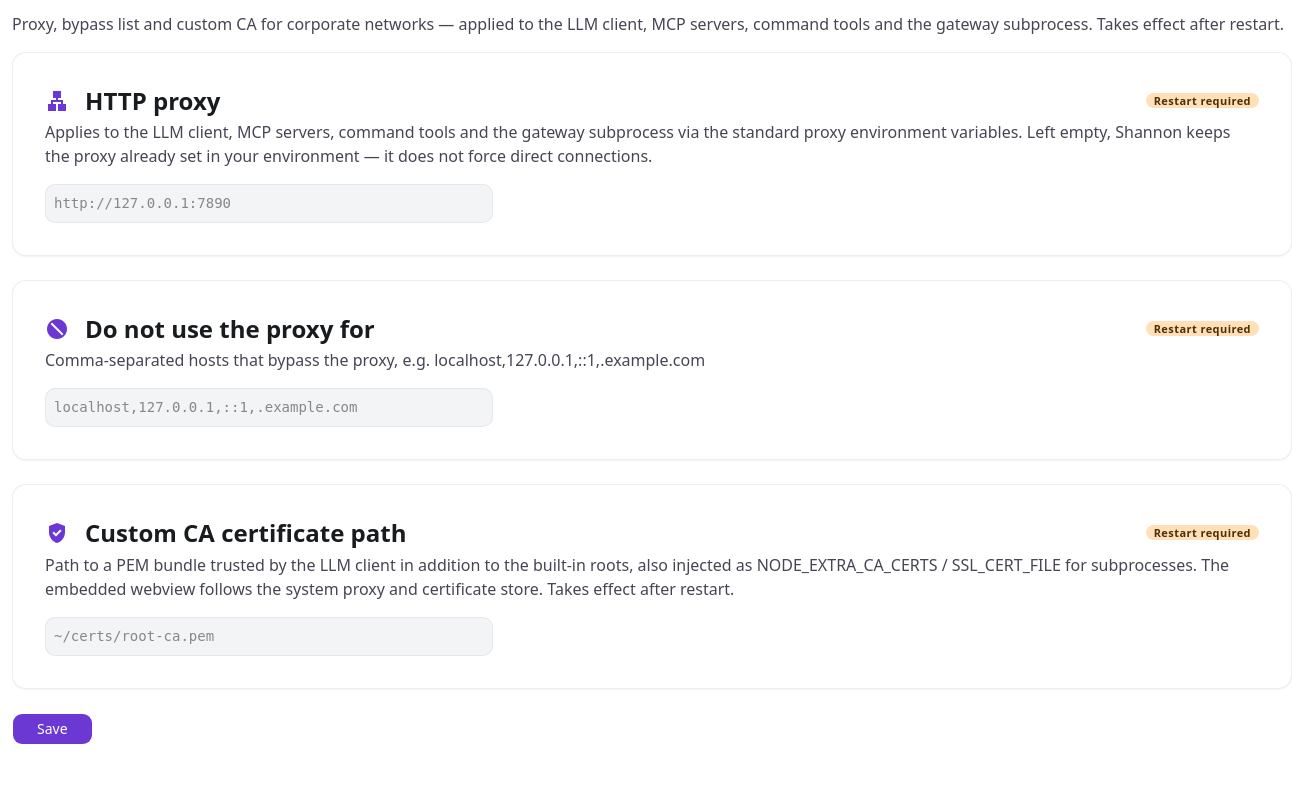
Test: NetworkSettings (Settings R3 T4 — corporate network trio) › shows the inline error and refuses to save when the proxy is invalid at save time (no blur)
Type "socks5://corp:1080" into the field with test id "network-proxy-input" at (269, 204), box [45,184,493,223]
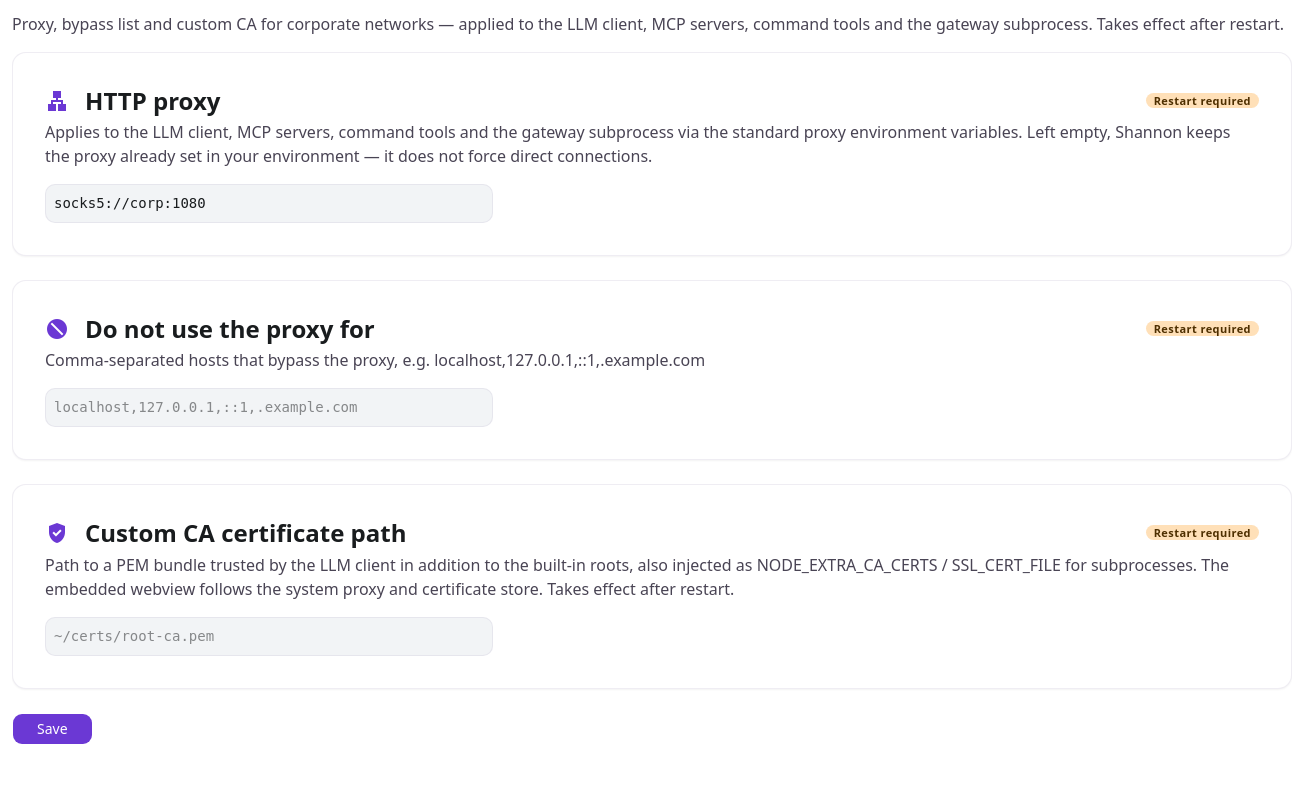
Click the button with test id "network-save" at (52, 729), box [12,713,93,745]
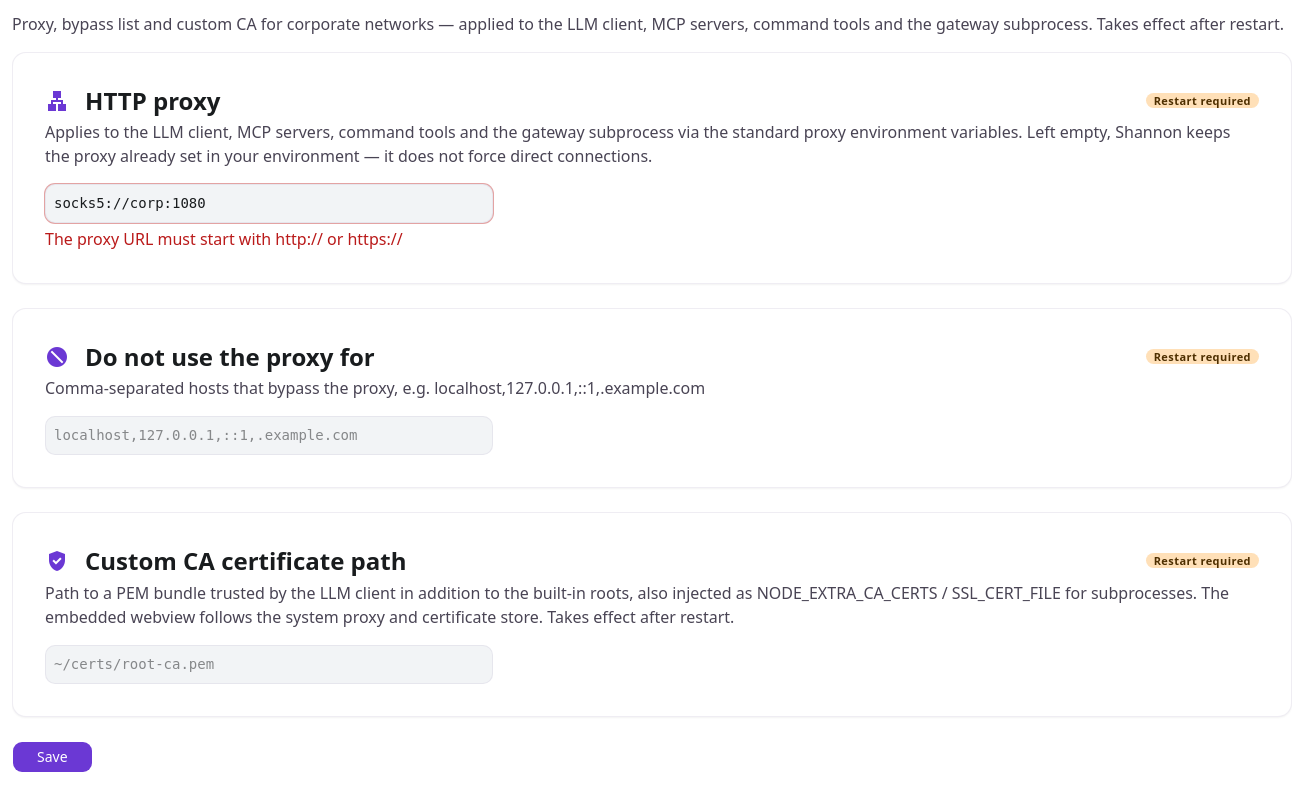
expect the message "The proxy URL must start with http:// or https://" is shown: met, box [45,228,403,250]
